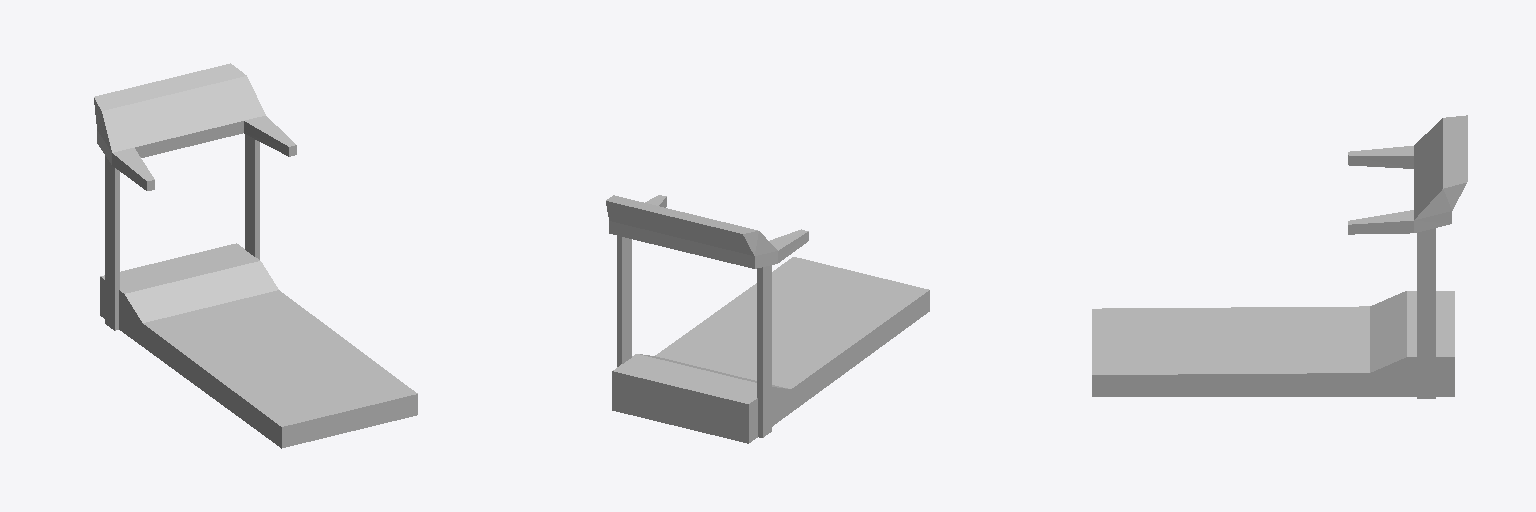
Rendered from uploads_files_48444_Treadmill.obj.
3 views of the same model, side by side, from view 1: azimuth 30°, elevation 25°; view 2: azimuth 150°, elevation 25°; view 3: azimuth 270°, elevation 25° (orthographic).
Visible parts, largest first — view 1: Treadmill; view 2: Treadmill; view 3: Treadmill.
Boxes of the visible parts, x1=… form: Treadmill: x1=94, y1=63, x2=417, y2=448; Treadmill: x1=606, y1=195, x2=929, y2=443; Treadmill: x1=1092, y1=115, x2=1467, y2=398.
Bounding box in the file's own units: 40.86 × 54.46 × 86.33.